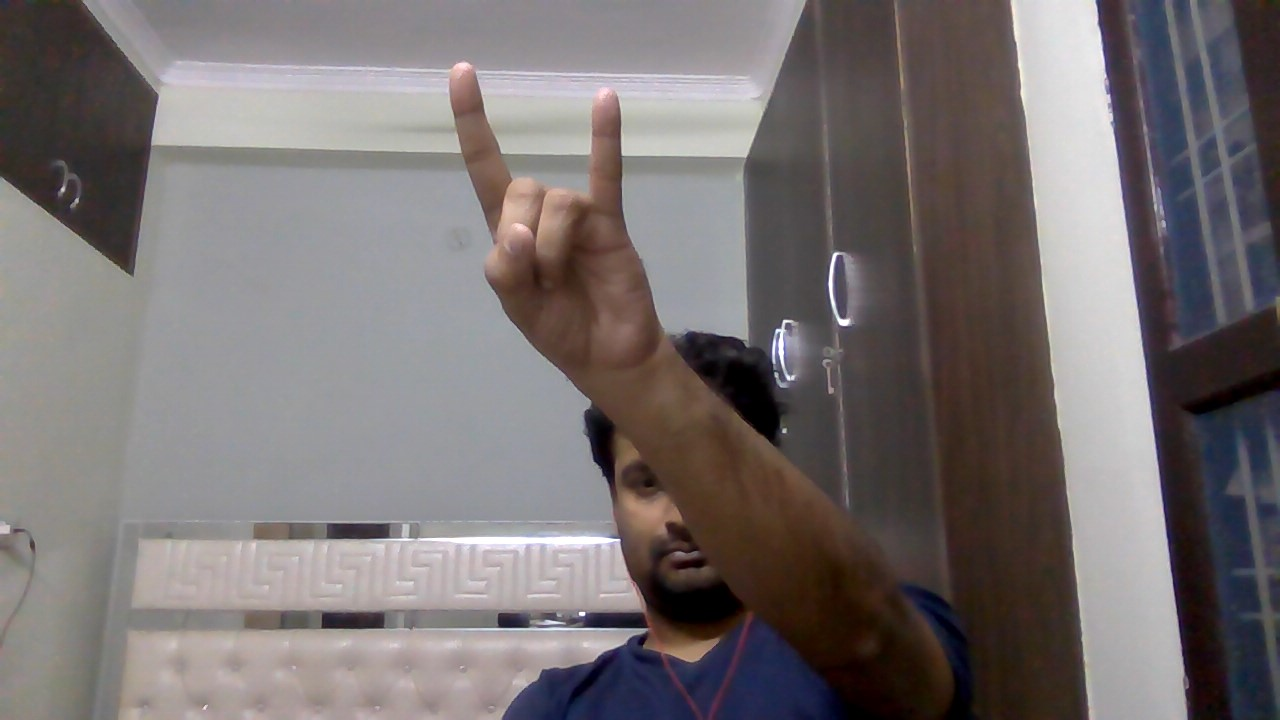Select All: (436, 54, 682, 390)
